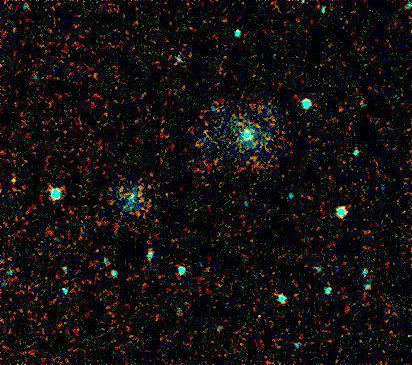star: (0, 170, 29, 200)
